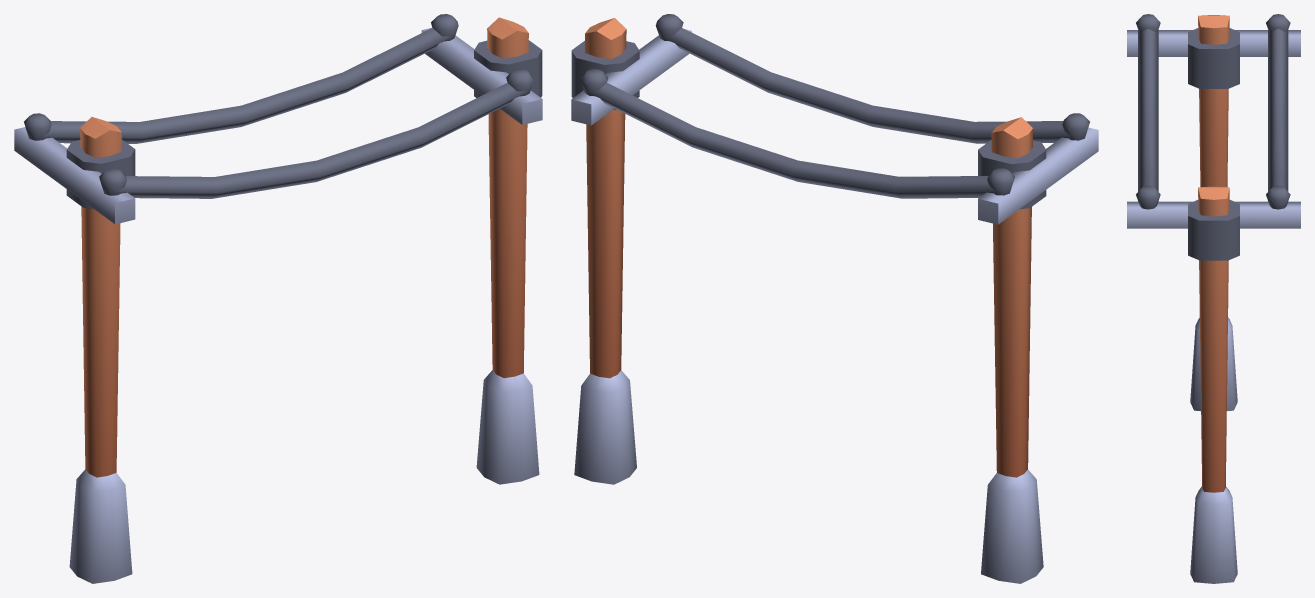
The model's file is electricity-pole.glb.
The picture shows the model from 3 angles, left to right: view 1: azimuth 30°, elevation 25°; view 2: azimuth 150°, elevation 25°; view 3: azimuth 270°, elevation 25°; orthographic projection. The views are drawn at different scales.
Parts seen in each view (by area): view 1: electricity-pole; view 2: electricity-pole; view 3: electricity-pole.
Boxes of the visible parts, left/top/right/bottom form: electricity-pole: left=14, top=14, right=542, bottom=583; electricity-pole: left=571, top=14, right=1098, bottom=583; electricity-pole: left=1127, top=14, right=1300, bottom=583.
Bounding box in the file's own units: 0.5791 × 0.5251 × 0.2142.
1 material, 1 textured.
